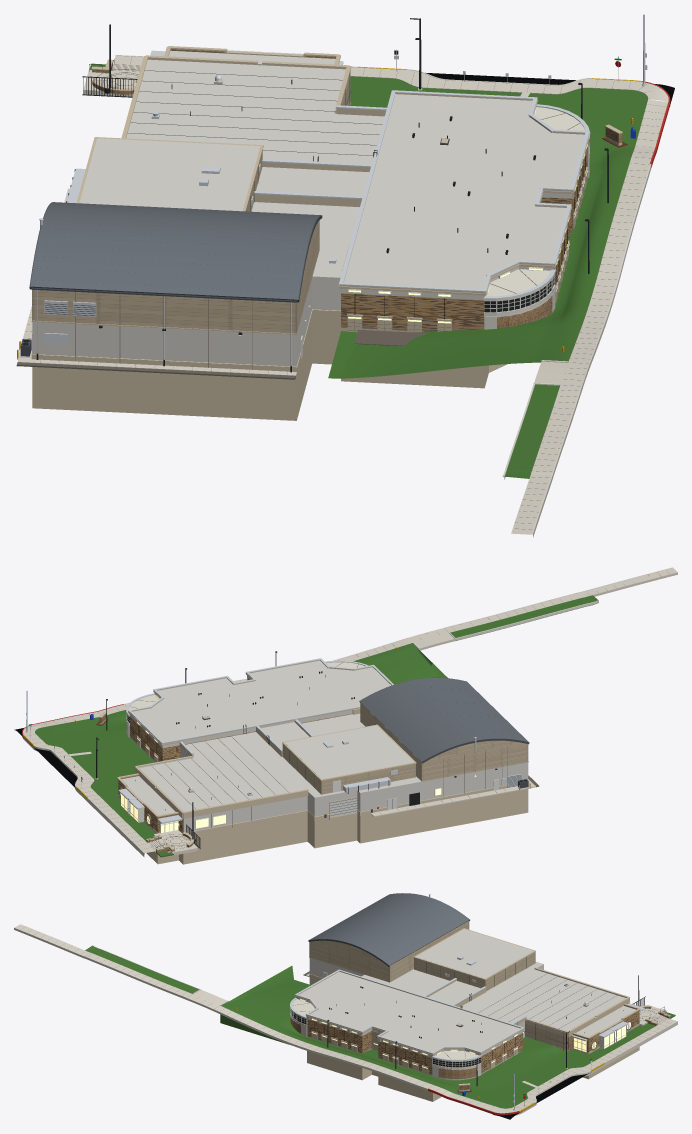
File: building-300.glb
The picture shows the model from 3 angles, top to bottom: view 1: azimuth 30°, elevation 25°; view 2: azimuth 150°, elevation 25°; view 3: azimuth 270°, elevation 25°; orthographic projection. The views are drawn at different scales.
Visible parts, largest first — view 1: node_84, Building300_SingleFloorHighCeilingBase, node_72, node_35, node_5, node_79, node_45, node_11, node_0, node_60, node_9, node_36 (+16 smaller); view 2: Building300_SingleFloorHighCeilingBase, node_84, node_79, node_72, node_35, node_5, node_11, node_0, node_45, node_36, node_25, node_9 (+11 smaller); view 3: node_35, node_84, Building300_SingleFloorHighCeilingBase, node_72, node_5, node_45, node_11, node_0, node_60, node_36, node_58, node_9 (+13 smaller).
Part boxes in pixels (left/top/right/bottom): node_84: left=341, top=94, right=584, bottom=300; Building300_SingleFloorHighCeilingBase: left=32, top=59, right=384, bottom=366; node_72: left=30, top=202, right=320, bottom=300; node_35: left=328, top=76, right=648, bottom=378; node_5: left=79, top=50, right=369, bottom=211; node_79: left=32, top=316, right=340, bottom=420; node_45: left=511, top=99, right=667, bottom=537; node_11: left=32, top=78, right=542, bottom=333; node_0: left=76, top=46, right=589, bottom=332; node_60: left=341, top=146, right=587, bottom=330; node_9: left=39, top=75, right=646, bottom=298; node_36: left=113, top=55, right=668, bottom=101; Building300_SingleFloorHighCeilingBase: left=139, top=713, right=528, bottom=832; node_84: left=130, top=660, right=391, bottom=748; node_79: left=179, top=789, right=528, bottom=864; node_72: left=360, top=677, right=528, bottom=761; node_35: left=35, top=643, right=447, bottom=841; node_5: left=121, top=722, right=414, bottom=815; node_11: left=282, top=702, right=528, bottom=794; node_0: left=117, top=676, right=416, bottom=864; node_45: left=38, top=568, right=677, bottom=727; node_36: left=22, top=723, right=155, bottom=856; node_25: left=68, top=751, right=535, bottom=855; node_9: left=26, top=658, right=476, bottom=794; node_35: left=220, top=966, right=655, bottom=1108; node_84: left=296, top=971, right=522, bottom=1056; Building300_SingleFloorHighCeilingBase: left=309, top=957, right=625, bottom=1037; node_72: left=309, top=893, right=469, bottom=965; node_5: left=415, top=929, right=635, bottom=1036; node_45: left=14, top=924, right=498, bottom=1112; node_11: left=309, top=921, right=567, bottom=1050; node_0: left=306, top=928, right=670, bottom=1079; node_60: left=307, top=1020, right=522, bottom=1073; node_36: left=493, top=1018, right=677, bottom=1115; node_58: left=307, top=1036, right=520, bottom=1101; node_9: left=290, top=894, right=587, bottom=1110.
Size of the model in its own units: 94.36 by 16.97 by 139.
36 materials, 6 textured.
